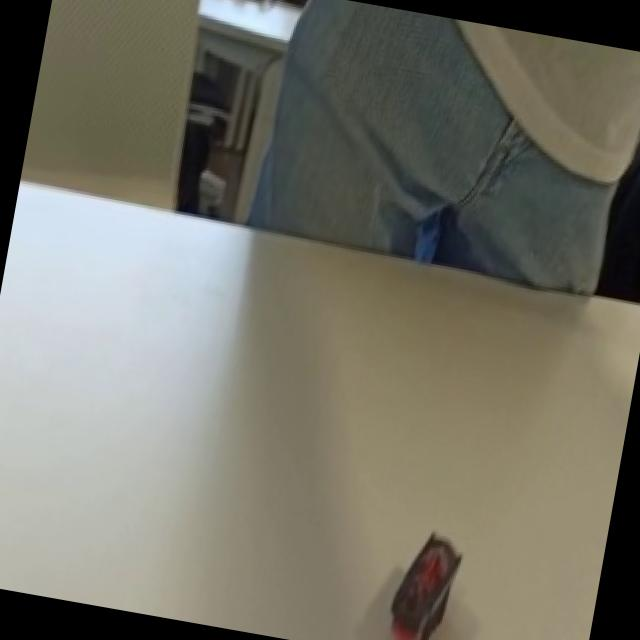2_NanoBug_Negro: (324, 490, 521, 640)
